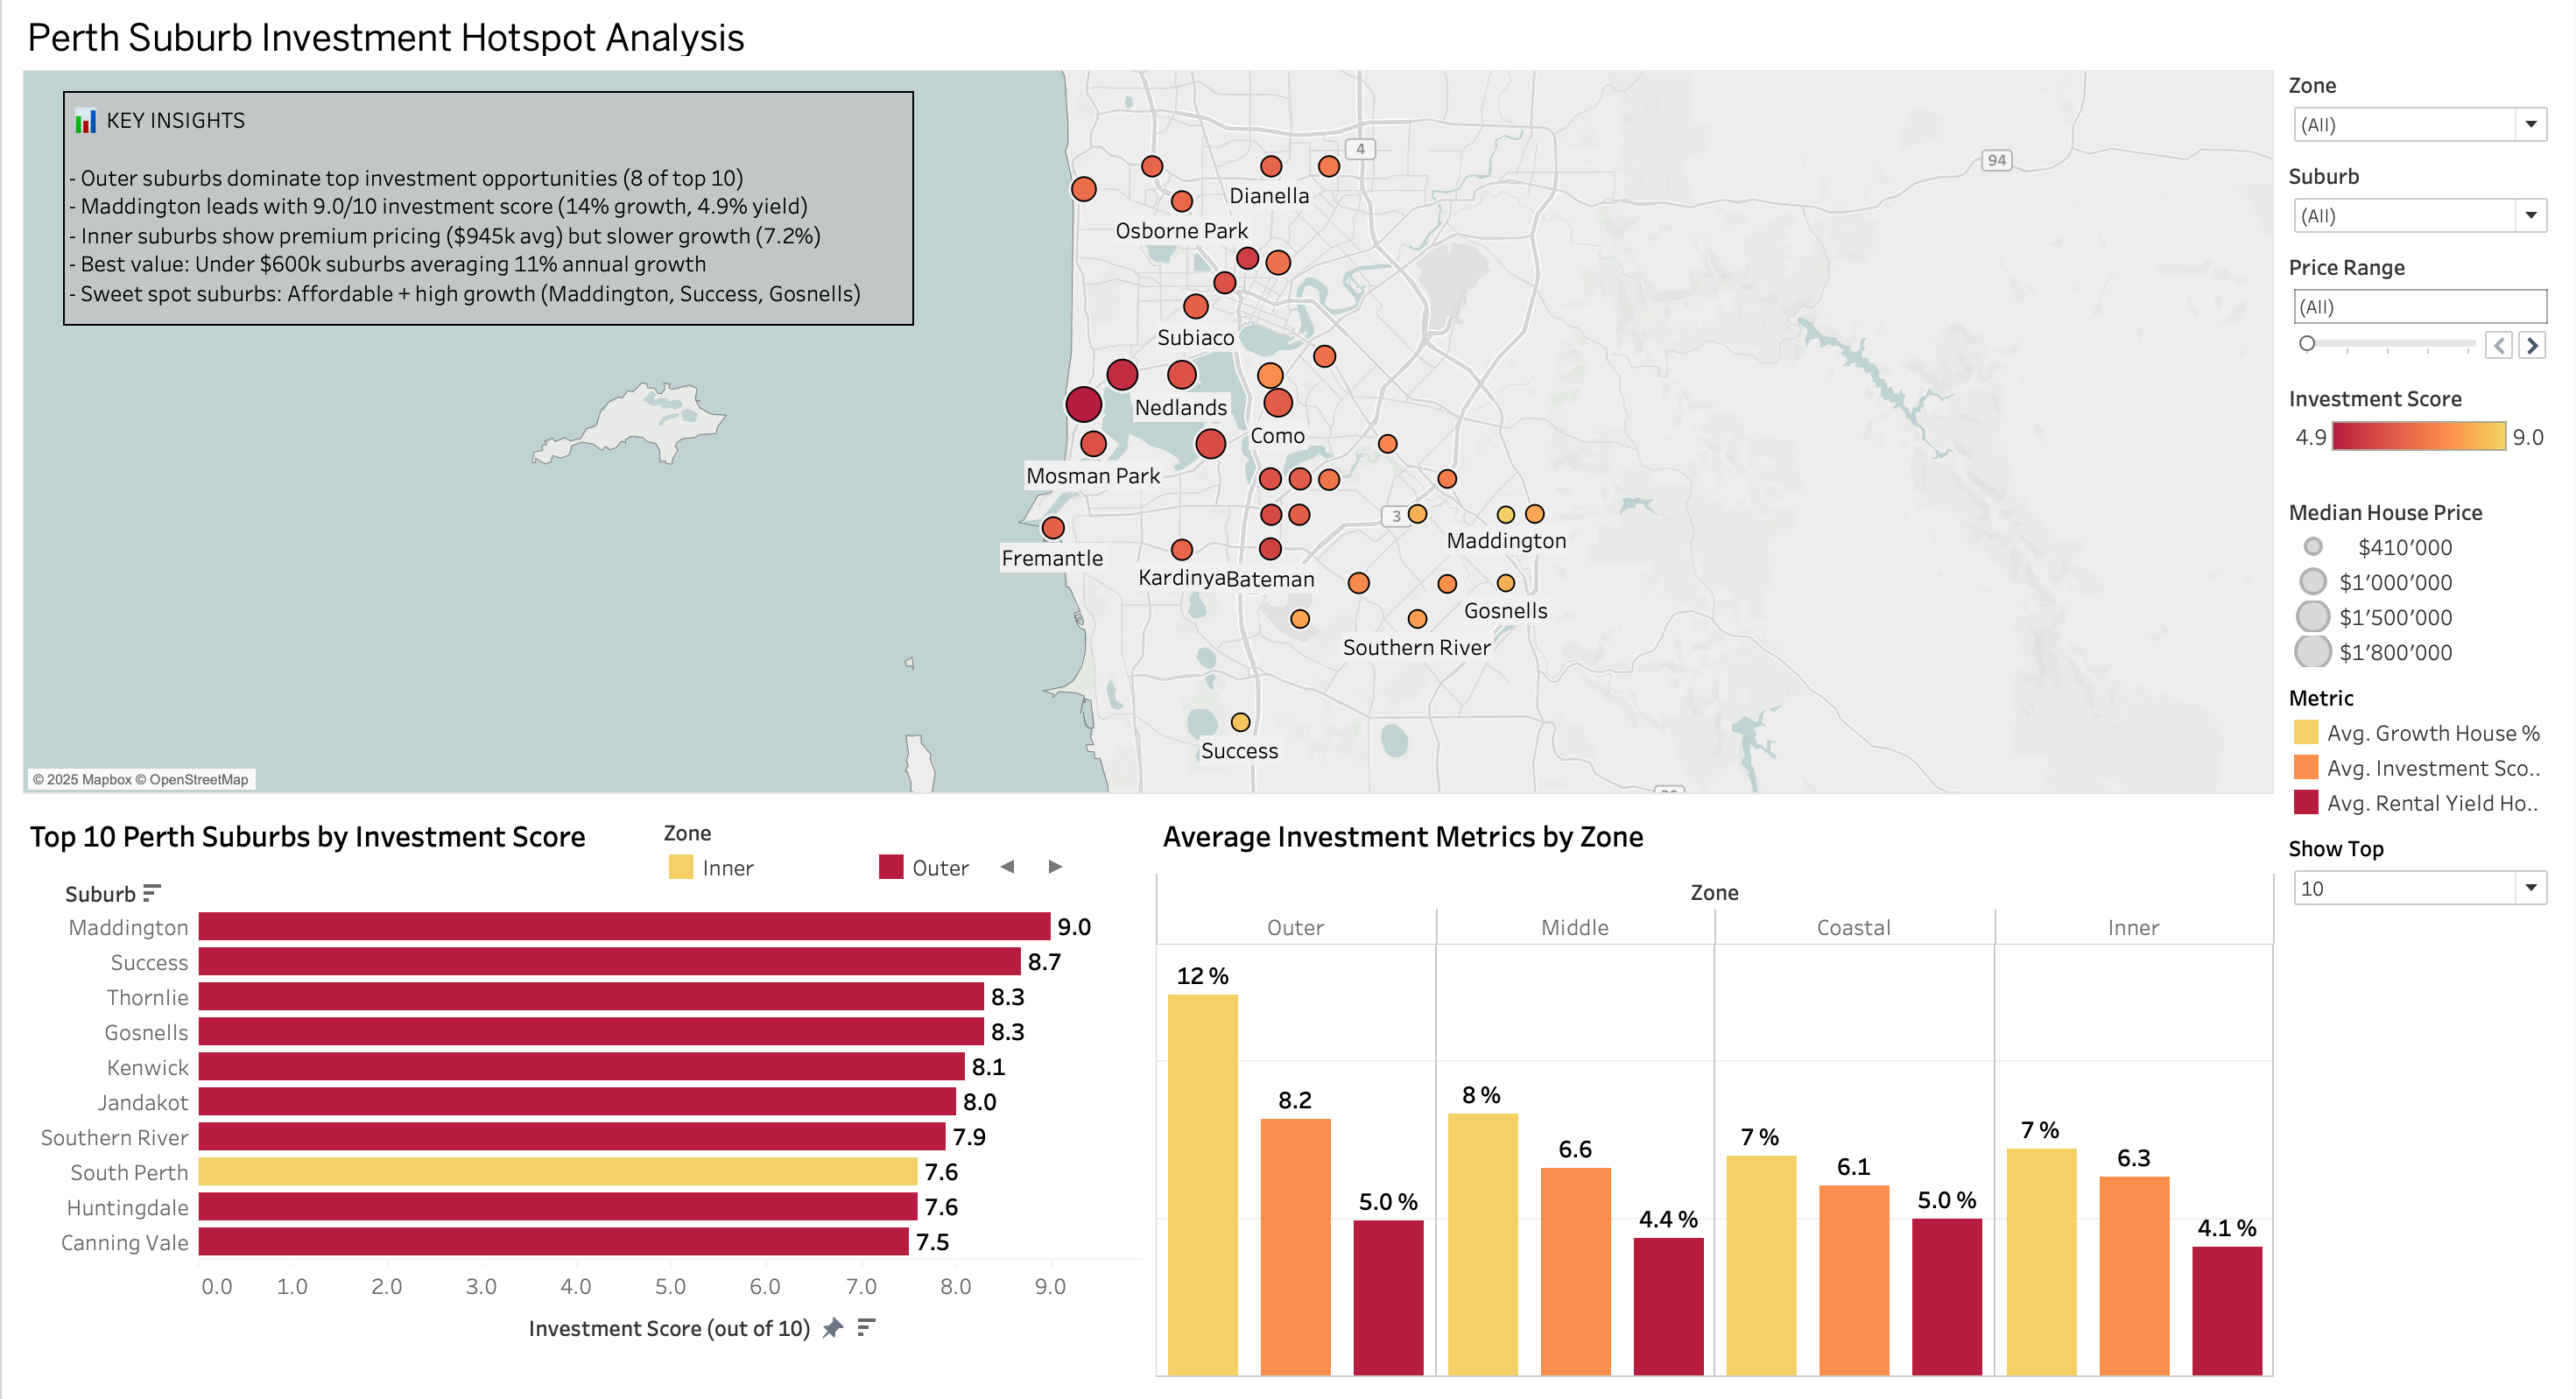

What the dashboard file says about the page in this screenshot:
{"tool":"tableau","page":{"name":"Perth Investment Dashboard","canvas":[1000,1000],"units":"permille","ordinal":0},"visuals":[{"type":"text","box":[5.4,10,989.1,36.2]},{"type":"worksheet","title":"Map - Investment Hotspots","mark":"Circle","rows":["latitude"],"cols":["longitude"],"box":[5.4,46.2,880.8,527.5]},{"type":"filter","title":"Map - Investment Hotspots","param":"[federated.0tc0pex1p6aem31gxf02d1crqzas].[none:zone:nk]","box":[886.2,46.2,108.4,65]},{"type":"text","box":[23.8,66.2,330.6,167.5]},{"type":"filter","title":"Map - Investment Hotspots","param":"[federated.0tc0pex1p6aem31gxf02d1crqzas].[none:suburb:nk]","box":[886.2,111.2,108.4,65]},{"type":"filter","title":"Map - Investment Hotspots","param":"[federated.0tc0pex1p6aem31gxf02d1crqzas].[none:Calculation_2109504059994113:nk]","box":[886.2,176.2,108.4,93.8]},{"type":"legend","title":"Map - Investment Hotspots","param":"[federated.0tc0pex1p6aem31gxf02d1crqzas].[sum:investment_score:qk]","box":[886.2,270,108.4,81.2]},{"type":"legend","title":"Map - Investment Hotspots","param":"[federated.0tc0pex1p6aem31gxf02d1crqzas].[sum:median_house_price:qk]","box":[886.2,351.2,108.4,132.5]},{"type":"legend","title":"Zone Comparison","param":"[federated.0tc0pex1p6aem31gxf02d1crqzas].[:Measure Names]","box":[886.2,483.7,108.4,107.5]},{"type":"worksheet","title":"Top 10 Rankings","mark":"Bar","rows":["suburb"],"cols":["investment_score"],"box":[5.4,573.7,440.4,416.3]},{"type":"worksheet","title":"Zone Comparison","mark":"Automatic","cols":["zone"],"box":[445.8,573.7,440.4,416.3]},{"type":"legend","title":"Top 10 Rankings","param":"[federated.0tc0pex1p6aem31gxf02d1crqzas].[none:zone:nk]","box":[257.1,585,161.9,47.5]},{"type":"parameter","param":"[Parameters].[Parameter 1]","box":[886.2,591.2,108.4,65]}]}

Visuals, with their boxes on the dashboard's canvas, which has no fixed pixel size, in thousandths of its width and height (x1, y1, x2, y2). These are canvas units, not pixel positions in the 2576x1399 screenshot, which may show the page scaled, cropped or inside an application window:
text: 5 10 994 46
"Map - Investment Hotspots" worksheet (Circle marks): 5 46 886 574
"Map - Investment Hotspots" filter: 886 46 995 111
text: 24 66 354 234
"Map - Investment Hotspots" filter: 886 111 995 176
"Map - Investment Hotspots" filter: 886 176 995 270
"Map - Investment Hotspots" legend: 886 270 995 351
"Map - Investment Hotspots" legend: 886 351 995 484
"Zone Comparison" legend: 886 484 995 591
"Top 10 Rankings" worksheet (Bar marks): 5 574 446 990
"Zone Comparison" worksheet: 446 574 886 990
"Top 10 Rankings" legend: 257 585 419 632
parameter: 886 591 995 656
